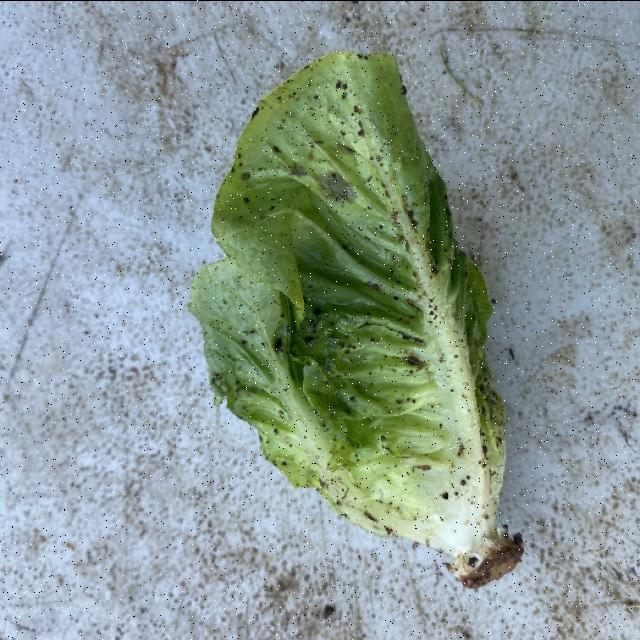organik: (204, 74, 539, 586)
